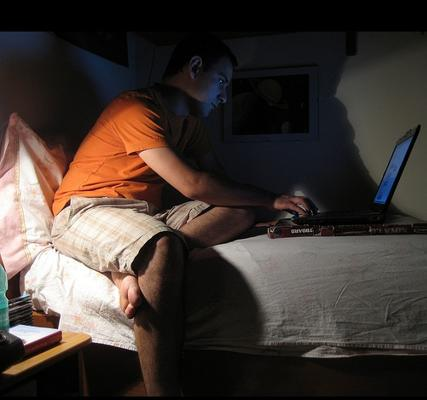person: (50, 28, 312, 400)
